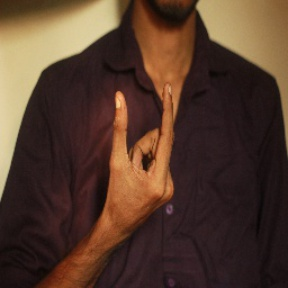U: (102, 85, 186, 208)
